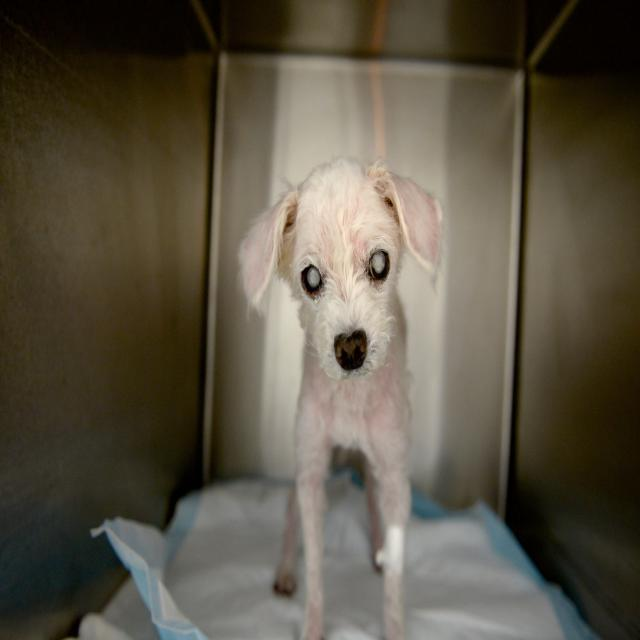eye: (366, 243, 393, 288), (300, 261, 328, 302)
